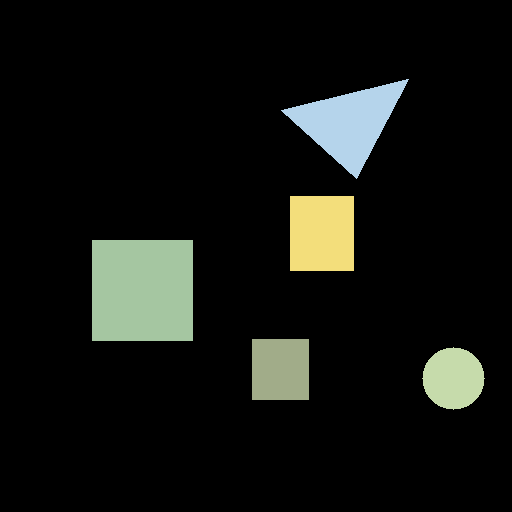circle: (422, 347, 484, 409)
rectangle: (290, 196, 353, 270)
square: (92, 240, 192, 340), (252, 339, 308, 399)
triangle: (281, 79, 408, 178)
